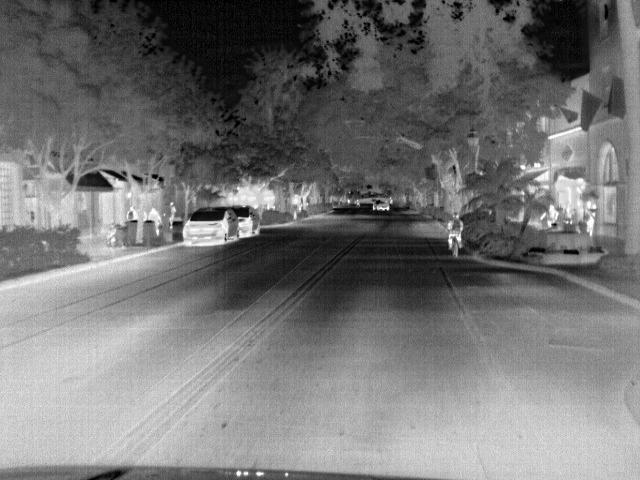car: (186, 208, 241, 248), (230, 206, 262, 239), (370, 199, 392, 213)
person: (446, 213, 466, 253), (538, 202, 558, 228), (146, 206, 162, 237), (166, 200, 178, 230), (125, 204, 140, 222), (562, 206, 574, 224)
